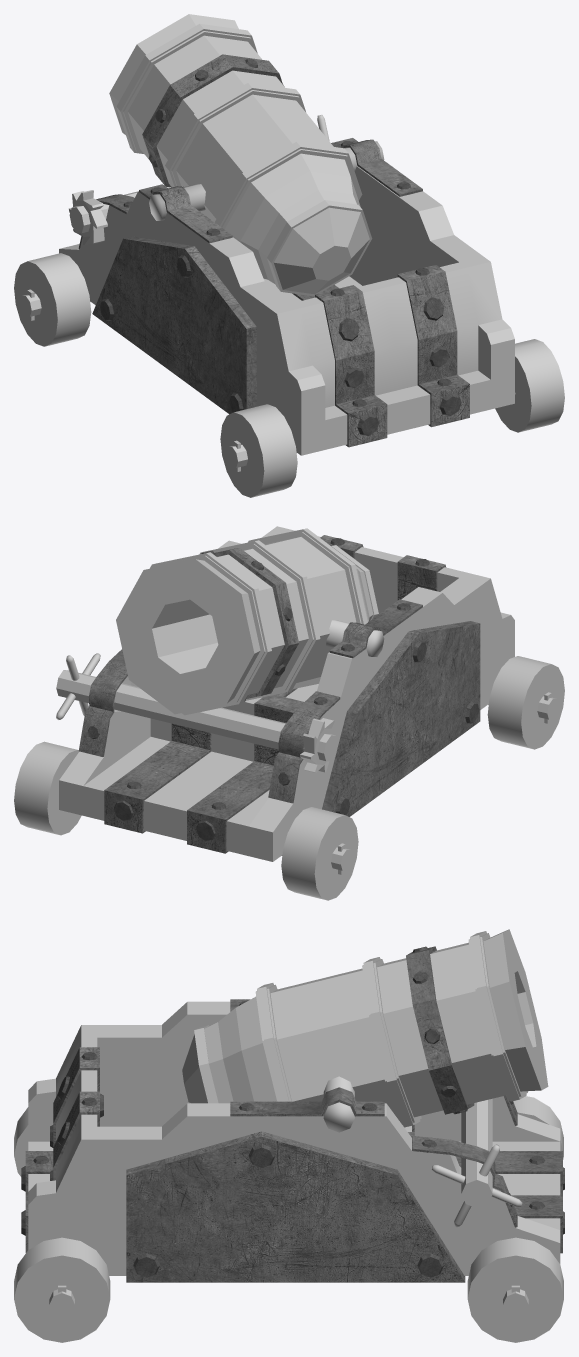
File: MortireLvl2.fbx
3 views of the same model, one above another, from view 1: azimuth 30°, elevation 25°; view 2: azimuth 150°, elevation 25°; view 3: azimuth 270°, elevation 25° (orthographic). The views are drawn at different scales.
Parts seen in each view (by area): view 1: Cube.024, Cylinder.029, Cube.020, Cube.019, Cube.007, Cube.022, Cylinder.027, Cube.017, Cylinder.024, Cylinder.026, Cylinder.028, Cylinder.023 (+1 smaller); view 2: Cylinder.029, Cube.024, Cube.020, Cube.019, Cube.022, Cylinder.026, Cube.007, Cylinder.019, Cube.017, Cylinder.027, Cylinder.028, Cylinder.025 (+2 smaller); view 3: Cube.024, Cylinder.029, Cube.020, Cube.022, Cube.007, Cube.019, Cube.017, Cylinder.026, Cylinder.027, Cylinder.019, Cylinder.025, Cylinder.028 (+6 smaller).
Boxes of the visible parts, <box> form: Cube.024: <box>59,166,514,455</box>; Cylinder.029: <box>109,14,372,296</box>; Cube.020: <box>92,236,256,414</box>; Cube.019: <box>292,265,469,447</box>; Cube.007: <box>220,339,564,497</box>; Cube.022: <box>14,253,91,346</box>; Cylinder.027: <box>139,138,422,243</box>; Cube.017: <box>142,54,282,187</box>; Cylinder.024: <box>330,268,451,406</box>; Cylinder.026: <box>69,185,170,245</box>; Cylinder.028: <box>149,141,384,220</box>; Cylinder.023: <box>357,393,461,435</box>; Cylinder.029: <box>116,528,378,715</box>; Cube.024: <box>59,526,514,861</box>; Cube.020: <box>322,621,480,816</box>; Cube.019: <box>104,535,446,853</box>; Cube.022: <box>14,741,358,900</box>; Cylinder.026: <box>56,670,338,772</box>; Cube.007: <box>487,656,564,749</box>; Cylinder.019: <box>78,649,340,803</box>; Cube.017: <box>212,547,298,698</box>; Cylinder.027: <box>329,599,422,658</box>; Cylinder.028: <box>326,620,384,656</box>; Cylinder.025: <box>336,640,479,815</box>; Cube.024: <box>28,1001,560,1275</box>; Cylinder.029: <box>182,929,548,1127</box>; Cube.020: <box>126,1131,465,1282</box>; Cube.022: <box>467,1096,563,1342</box>; Cube.007: <box>14,1107,110,1342</box>; Cube.019: <box>25,1047,562,1253</box>; Cube.017: <box>406,946,474,1114</box>; Cylinder.026: <box>461,1098,492,1207</box>; Cylinder.027: <box>230,999,384,1116</box>; Cylinder.019: <box>412,1095,517,1227</box>; Cylinder.025: <box>133,1144,443,1277</box>; Cylinder.028: <box>323,1076,354,1132</box>.
Size of the model in its own units: 111 by 98.24 by 150.
